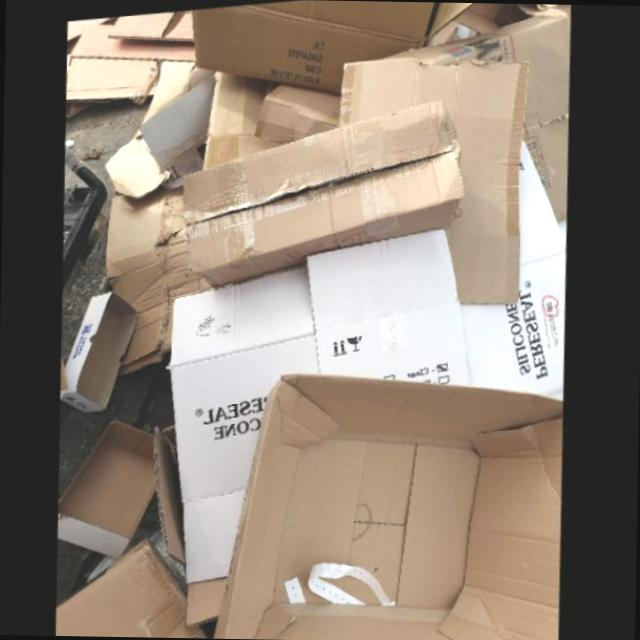carton: (174, 142, 570, 620), (218, 368, 568, 640), (185, 97, 468, 280), (341, 53, 530, 302), (192, 0, 435, 89), (108, 169, 217, 367), (61, 530, 216, 638), (62, 411, 161, 550)
